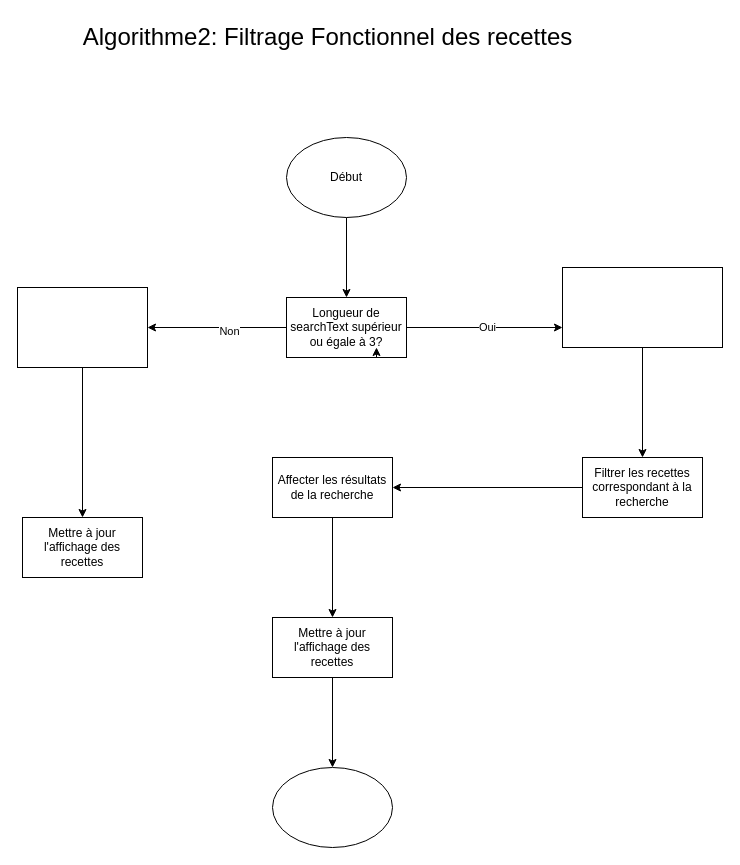
The diagram is 740 pixels wide and 865 high, and some of its shapes have lost their labels. The box of each missing label's shape, as (x1, y1, x2, y2) in pixels:
Fin: (272, 766, 392, 848)
Supprimez les espaces et convertir en minuscule: (562, 266, 722, 348)
Vider les résultats de la recherche: (16, 286, 148, 368)
